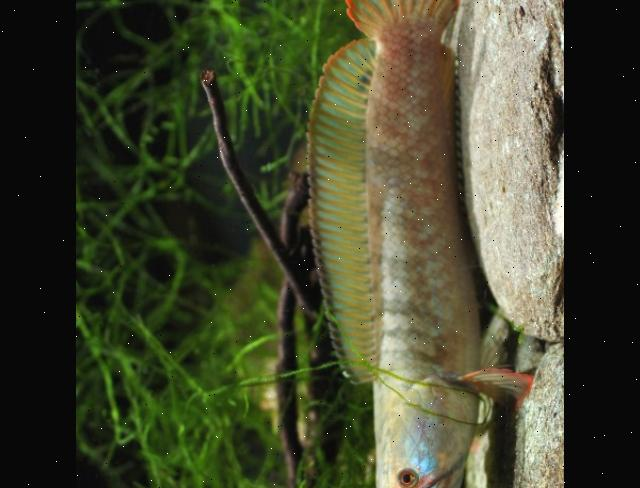Mulut: (378, 458, 468, 488)
Sirip Ekor: (338, 0, 467, 40)
Sirip Punggung: (302, 37, 381, 389), (442, 360, 540, 408)
